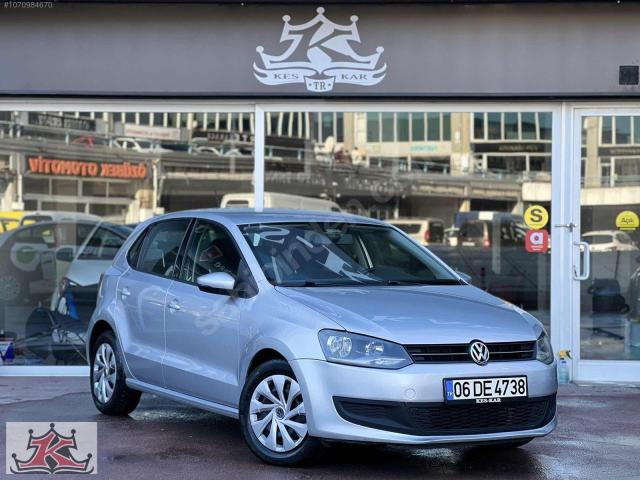plaka: (446, 376, 527, 403)
